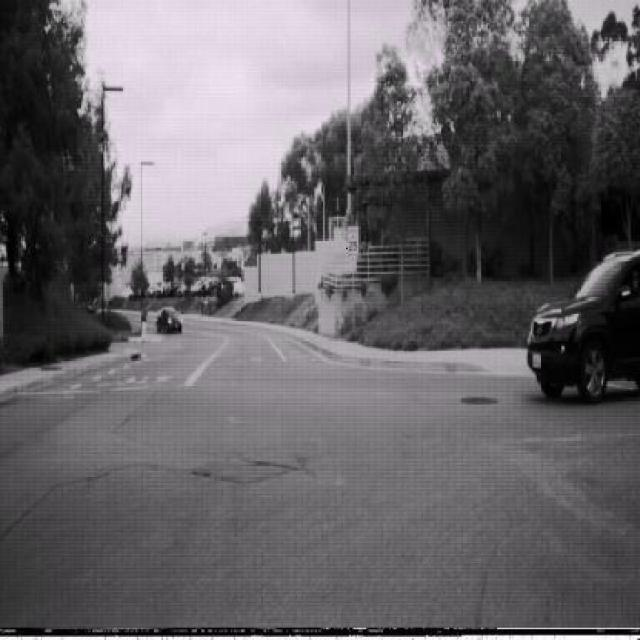speedLimit25: (346, 223, 360, 255)
